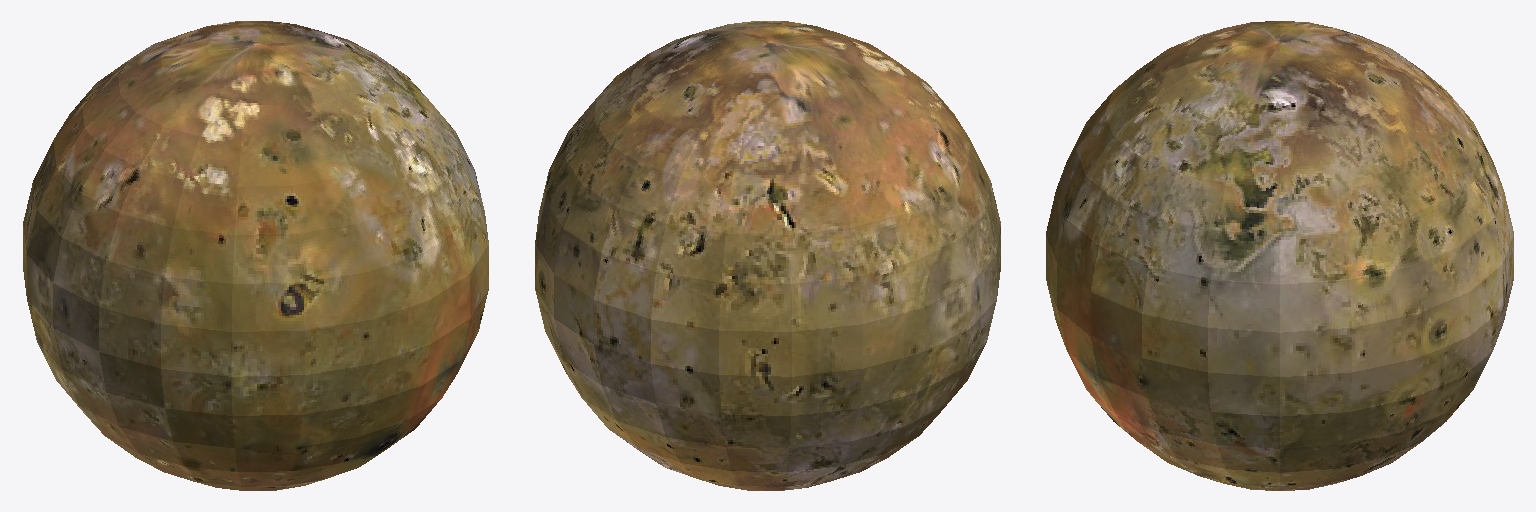
3 renders of one model, left to right at view 1: azimuth 30°, elevation 25°; view 2: azimuth 150°, elevation 25°; view 3: azimuth 270°, elevation 25°, orthographic.
Size of the model in its own units: 1.99 by 2 by 1.99.
1 materials, 1 textured.